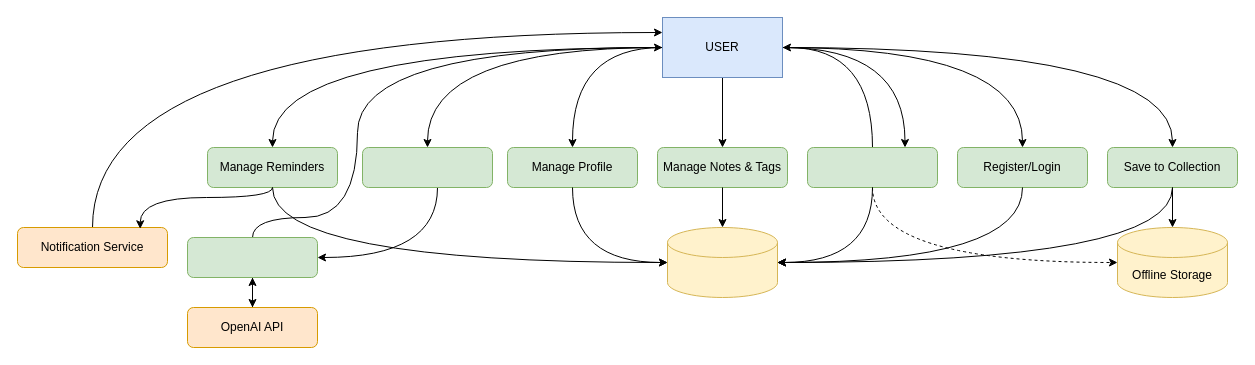
Some shapes in this 1255 by 365 pixel diagram are drawn without their labels. The box of each missing label's shape, as (x1, y1, x2, y2) in pixels:
Cloud Database: (666, 226, 778, 298)
Identify Plants: (186, 236, 318, 278)
Take Plant Photo: (362, 146, 492, 188)
View Collection: (806, 146, 938, 188)
